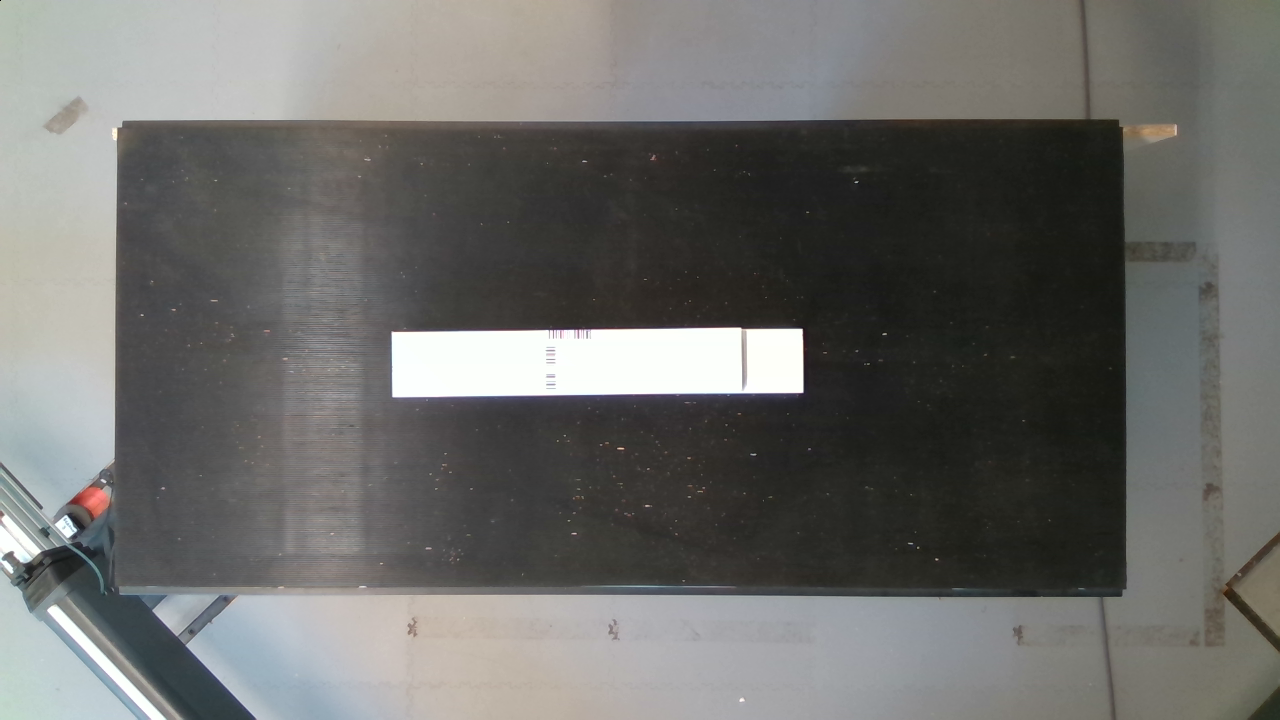barcode: (541, 321, 613, 400)
part1: (378, 312, 754, 401), (736, 322, 821, 400)
